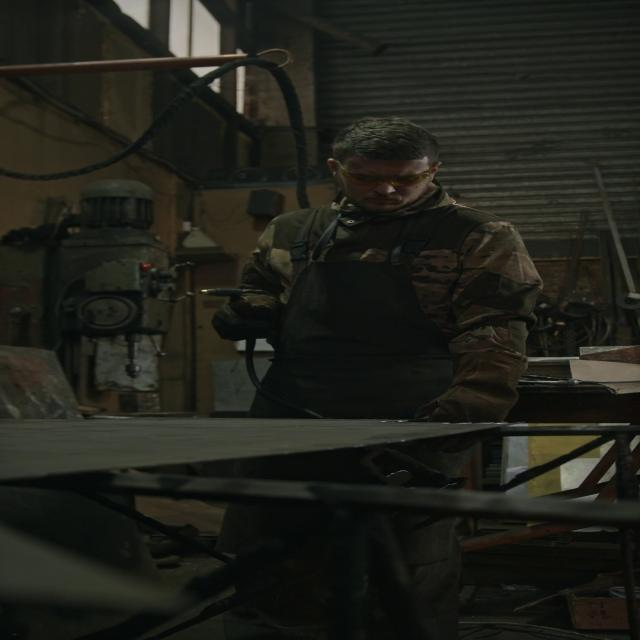gloved: (412, 323, 528, 422), (210, 293, 280, 341)
